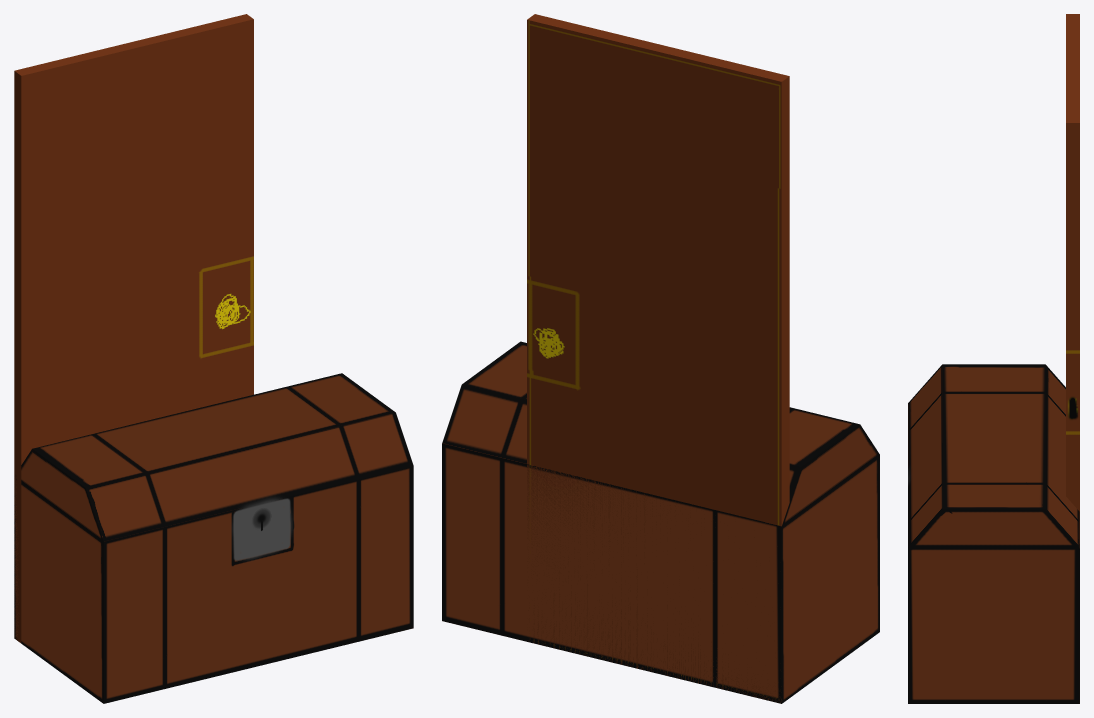
The model's file is chest.glb.
3 views of the same model, side by side, from view 1: azimuth 30°, elevation 25°; view 2: azimuth 150°, elevation 25°; view 3: azimuth 270°, elevation 25° (orthographic). The views are drawn at different scales.
Parts seen in each view (by area): view 1: Chest, Door; view 2: Door, Chest; view 3: Chest, Door.
Boxes of the visible parts, <box> form: Chest: <box>14,373,413,703</box>; Door: <box>14,14,253,643</box>; Door: <box>527,14,789,702</box>; Chest: <box>442,341,879,703</box>; Chest: <box>908,364,1079,703</box>; Door: <box>1066,14,1079,511</box>.
Bounding box in the file's own units: 4 × 7 × 2.
2 materials, 2 textured.
